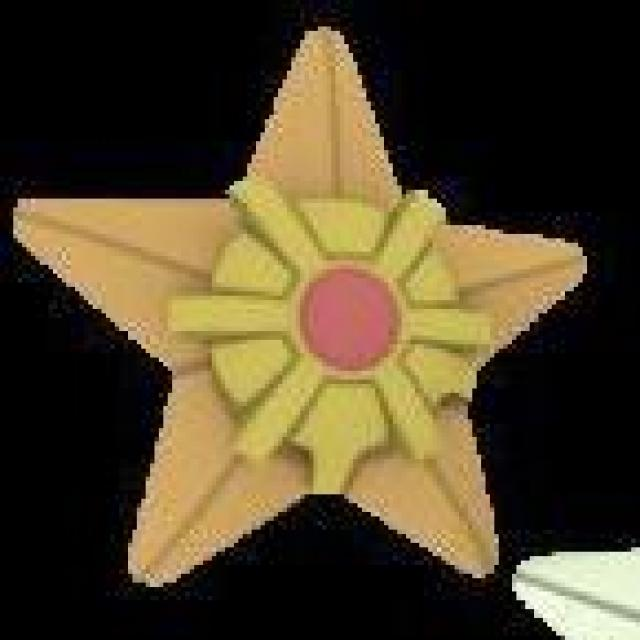Staryu: (5, 24, 590, 578)
